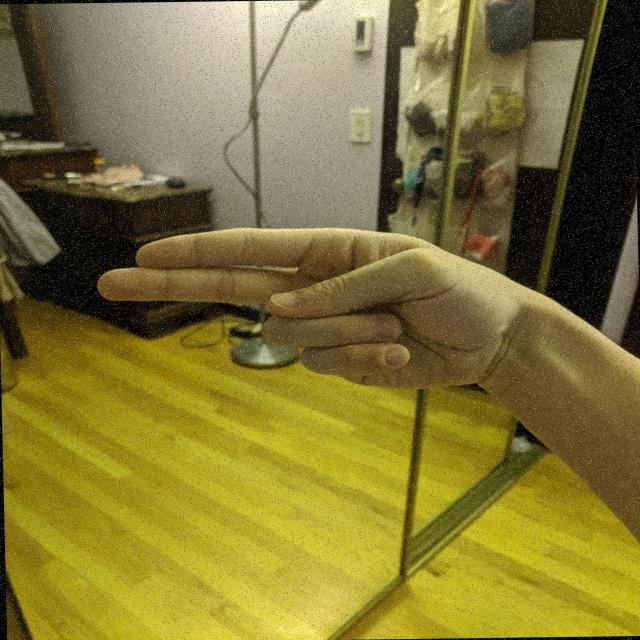H: (87, 217, 524, 398)
